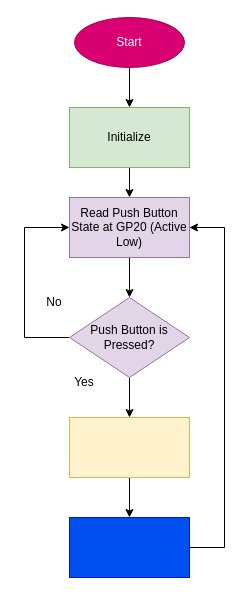
Image size: 250x595. Some labels were removed from this diagram. Each missing label, with the box of its shape:
Display the Color at Common Anode RGB LEDs: (68, 516, 190, 578)
Read RGB Color Sensor: (68, 416, 190, 478)
